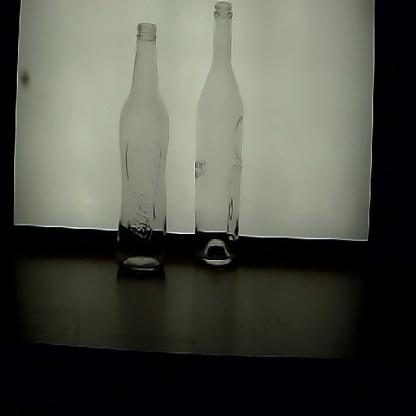Can: (189, 5, 247, 271), (115, 22, 168, 280)
